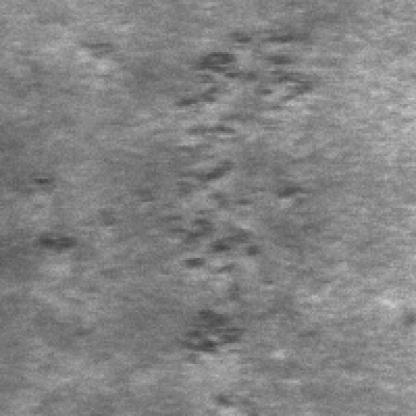rolled-in_scale: (27, 162, 316, 283), (75, 29, 310, 158), (172, 289, 245, 368)
